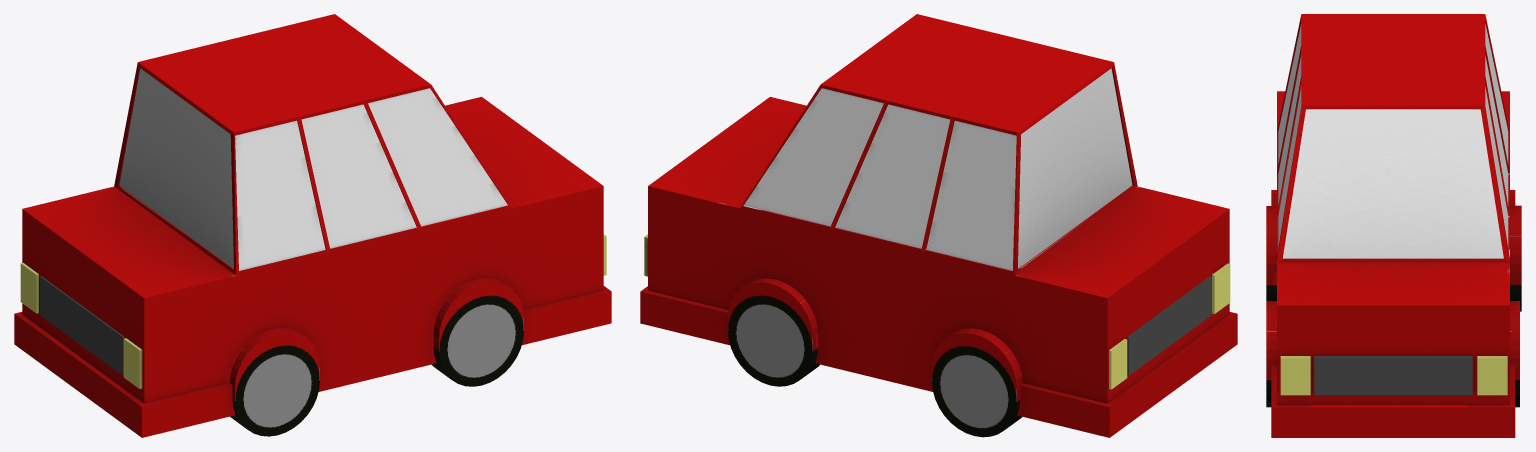
File: lowPolyCar2.glb
3 renders of one model, left to right at view 1: azimuth 30°, elevation 25°; view 2: azimuth 150°, elevation 25°; view 3: azimuth 270°, elevation 25°, orthographic. The views are drawn at different scales.
Visible parts, largest first — view 1: Cube, Cylinder, Cylinder.001, Cube.008, Cube.006, Cube.007; view 2: Cube, Cylinder.003, Cylinder.002, Cube.008, Cube.006, Cube.007; view 3: Cube, Cube.001, Cube.004, Cube.005, Cylinder.003, Cylinder.001, Cylinder, Cylinder.002.
Part boxes in pixels (x1,y1,x2,y2): Cube: (14,14,611,437); Cylinder: (431,278,523,386); Cylinder.001: (229,328,319,436); Cube.008: (40,276,124,375); Cube.006: (123,338,142,388); Cube.007: (20,263,38,313); Cube: (640,14,1237,437); Cylinder.003: (932,328,1022,437); Cylinder.002: (728,278,819,386); Cube.008: (1127,276,1211,375); Cube.006: (1212,263,1230,314); Cube.007: (1109,339,1127,389); Cube: (1271,14,1515,437); Cube.001: (1314,356,1472,395); Cube.004: (1477,356,1507,395); Cube.005: (1280,356,1310,395); Cylinder.003: (1510,205,1521,311); Cylinder.001: (1266,206,1276,300); Cylinder: (1266,301,1276,407); Cylinder.002: (1510,301,1519,407).
Bounding box in the file's own units: 3.75 × 2.25 × 1.85.
4 materials, 4 textured.
